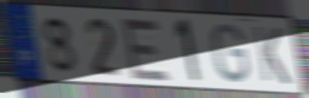1: (173, 17, 203, 86)
2: (85, 17, 124, 79)
8: (42, 15, 81, 76)
E: (119, 16, 174, 84)
G: (210, 22, 252, 85)
K: (251, 24, 293, 87)
